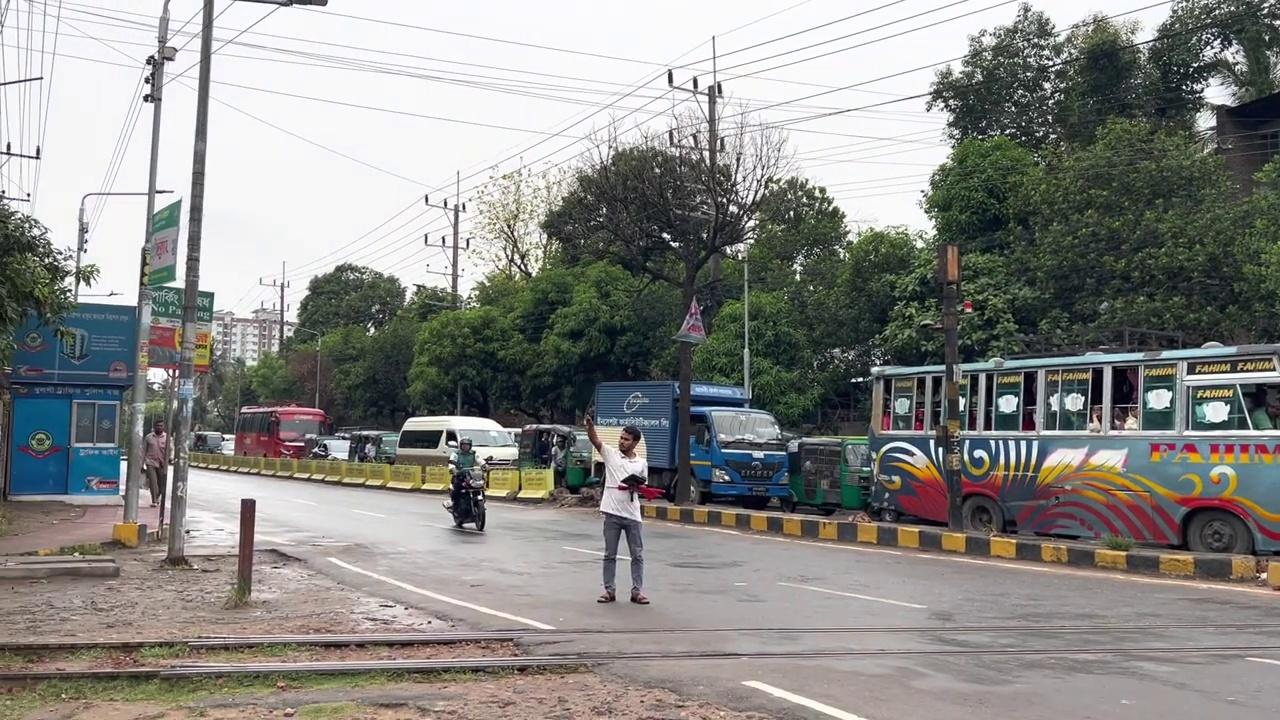Car: (636, 498, 1276, 591)
Crosswalk: (564, 449, 590, 491)
Curb: (442, 455, 491, 532)
Fence: (583, 415, 650, 604), (141, 419, 173, 507), (550, 435, 568, 489)
Garbage: (116, 1, 174, 526), (163, 0, 214, 563), (938, 242, 964, 531), (741, 258, 750, 401)
Motorcycle: (1, 619, 1278, 682)
Railroad-crossing: (0, 189, 100, 368)
Rickshaw: (865, 341, 1279, 555), (586, 379, 792, 510), (518, 423, 593, 492)
